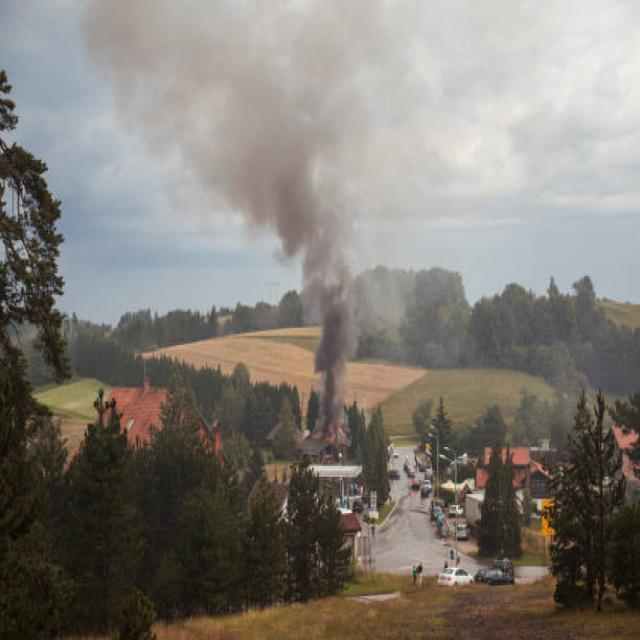Smoke: (78, 0, 340, 198), (282, 198, 356, 426)
